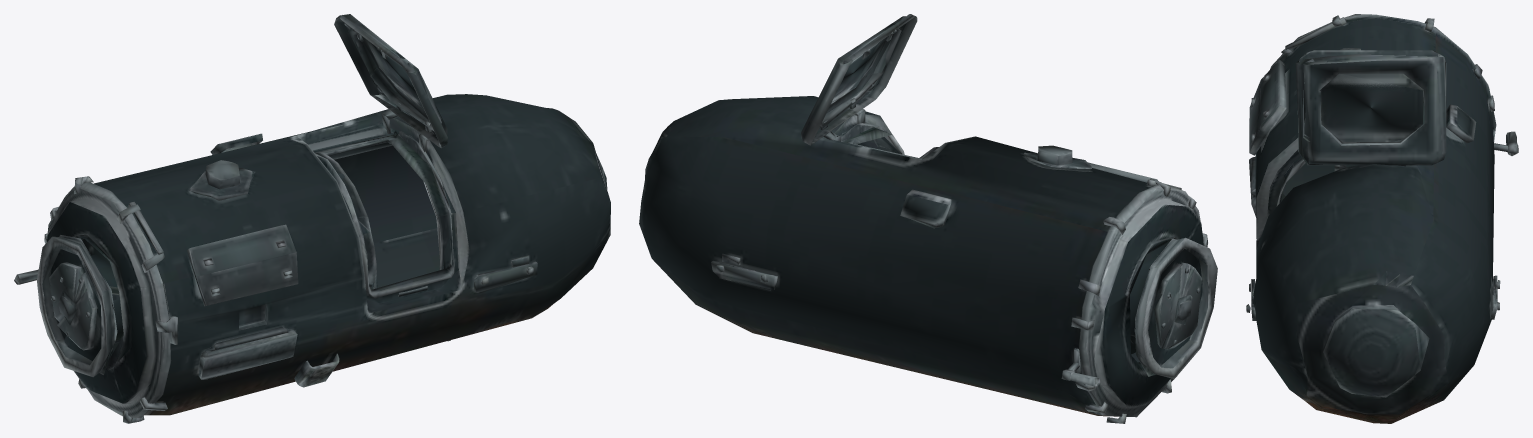
3 views of the same model, side by side, from view 1: azimuth 30°, elevation 25°; view 2: azimuth 150°, elevation 25°; view 3: azimuth 270°, elevation 25° (orthographic).
Size of the model in its own units: 0.9482 by 0.5386 by 0.4209.
1 material, 1 textured.
